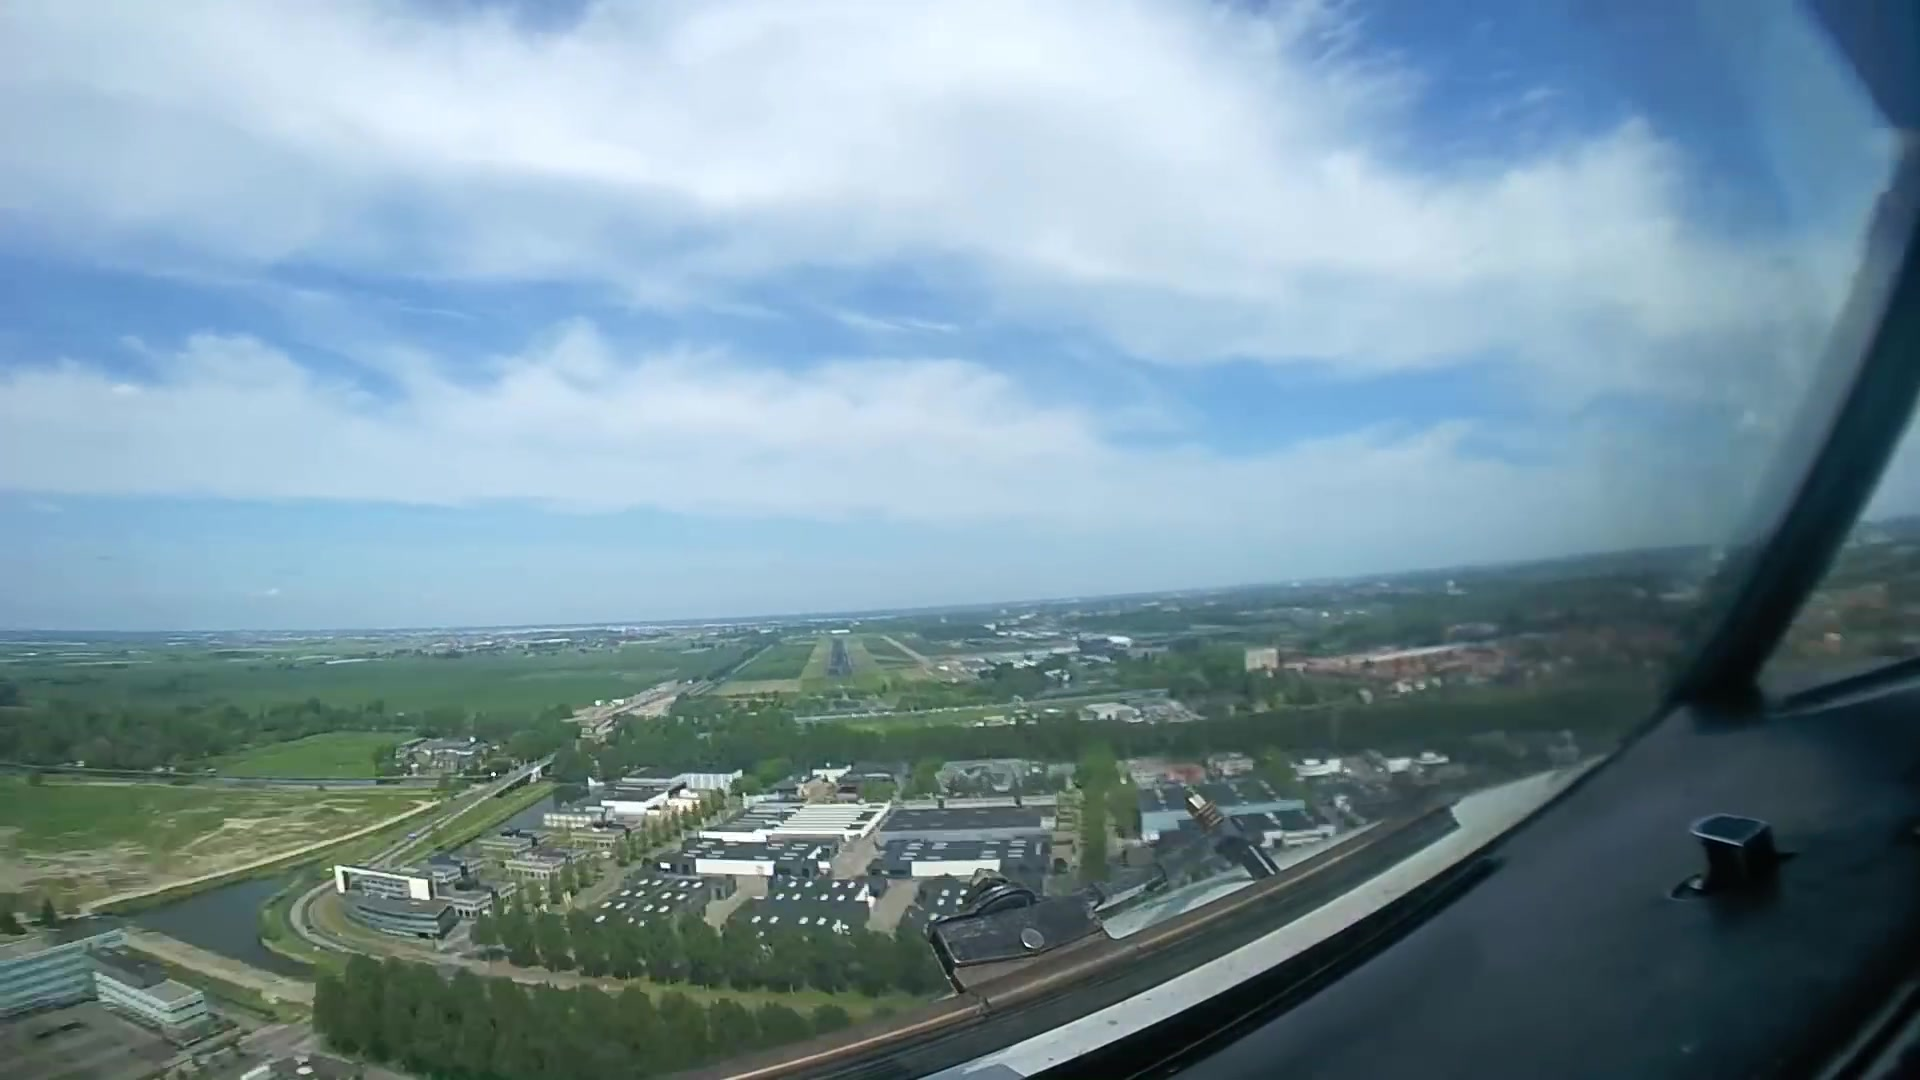runway: (825, 636, 853, 675)
